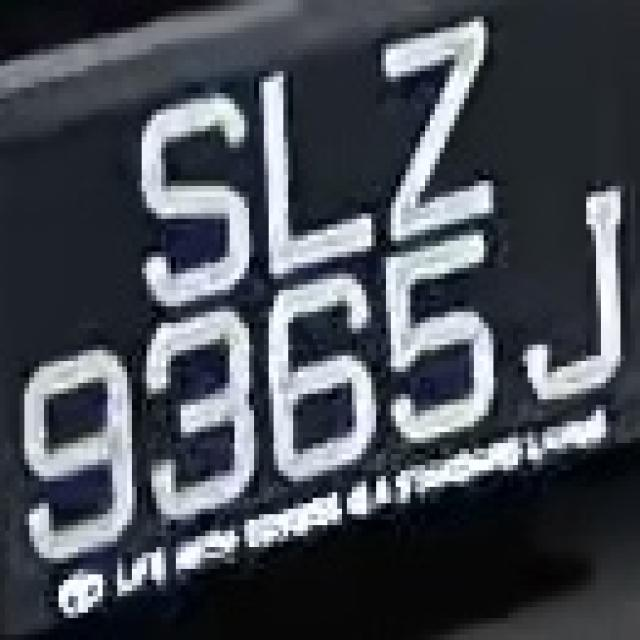3: (136, 301, 268, 536)
5: (362, 230, 498, 465)
6: (259, 252, 386, 486)
9: (15, 355, 142, 580)
J: (503, 164, 640, 410)
L: (244, 49, 376, 274)
S: (108, 82, 254, 301)
Z: (366, 11, 504, 246)
